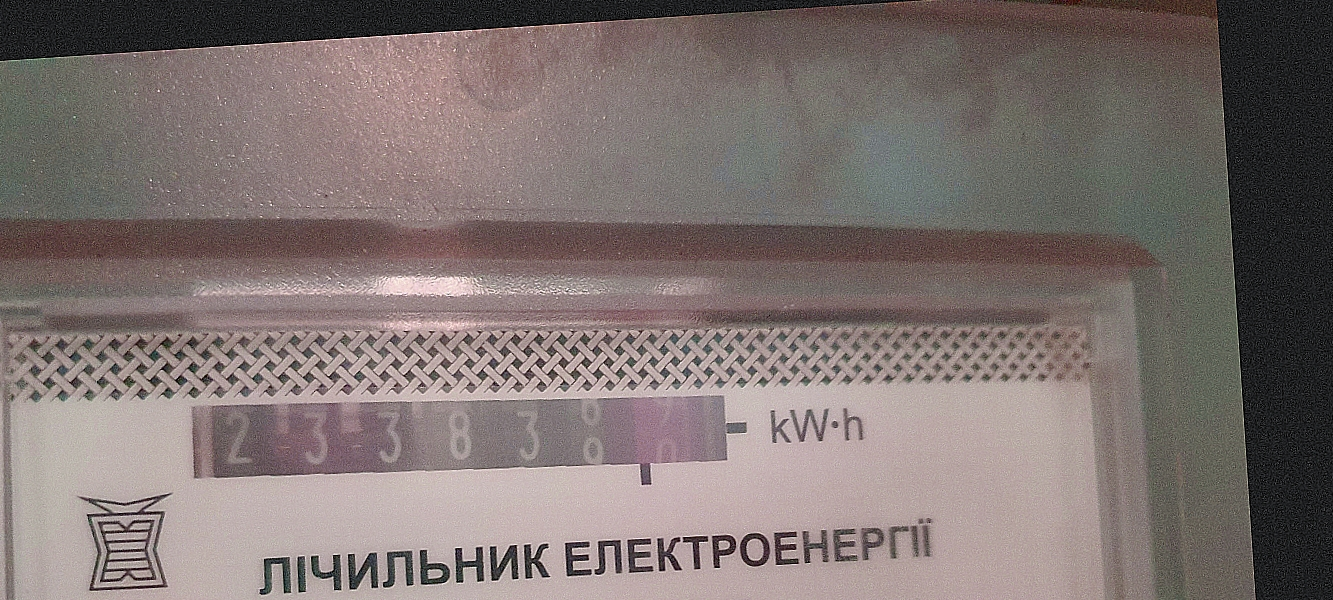0: (652, 434, 680, 470)
2: (217, 406, 260, 469)
3: (368, 403, 408, 469), (513, 403, 545, 462), (300, 407, 331, 467)
8: (441, 403, 478, 464), (577, 393, 605, 427)
9: (647, 390, 680, 431), (578, 432, 609, 470)
screen: (159, 347, 760, 542)
